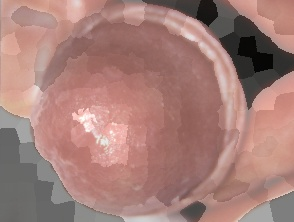SJS-TEN: (9, 0, 269, 222)
